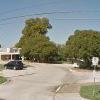Tree: (18, 13, 63, 65)
